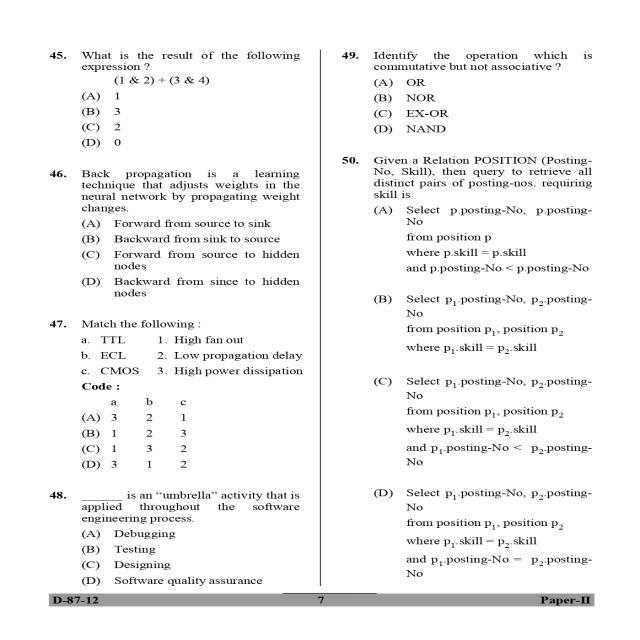Answer_Block: (334, 203, 600, 586), (48, 378, 306, 472), (47, 218, 306, 304), (334, 75, 600, 142), (47, 88, 306, 154), (48, 526, 306, 590)
Question_Answer_Block: (334, 150, 600, 589), (48, 312, 306, 472), (47, 164, 306, 304), (47, 45, 306, 154), (48, 484, 306, 590), (334, 48, 600, 141)
Question_Block: (48, 312, 306, 378), (47, 164, 306, 218), (334, 150, 600, 202), (48, 483, 306, 527), (47, 46, 306, 87), (334, 48, 600, 76)
Question_Paper_Area: (335, 48, 601, 590), (48, 46, 306, 589)
